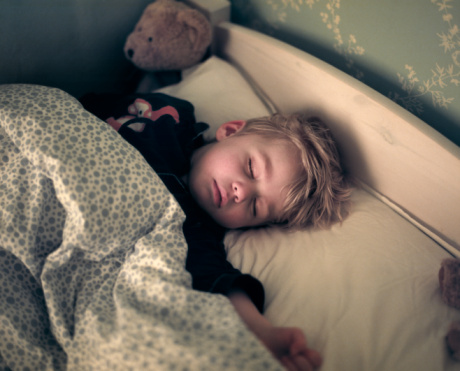deitado: (169, 97, 403, 371)
